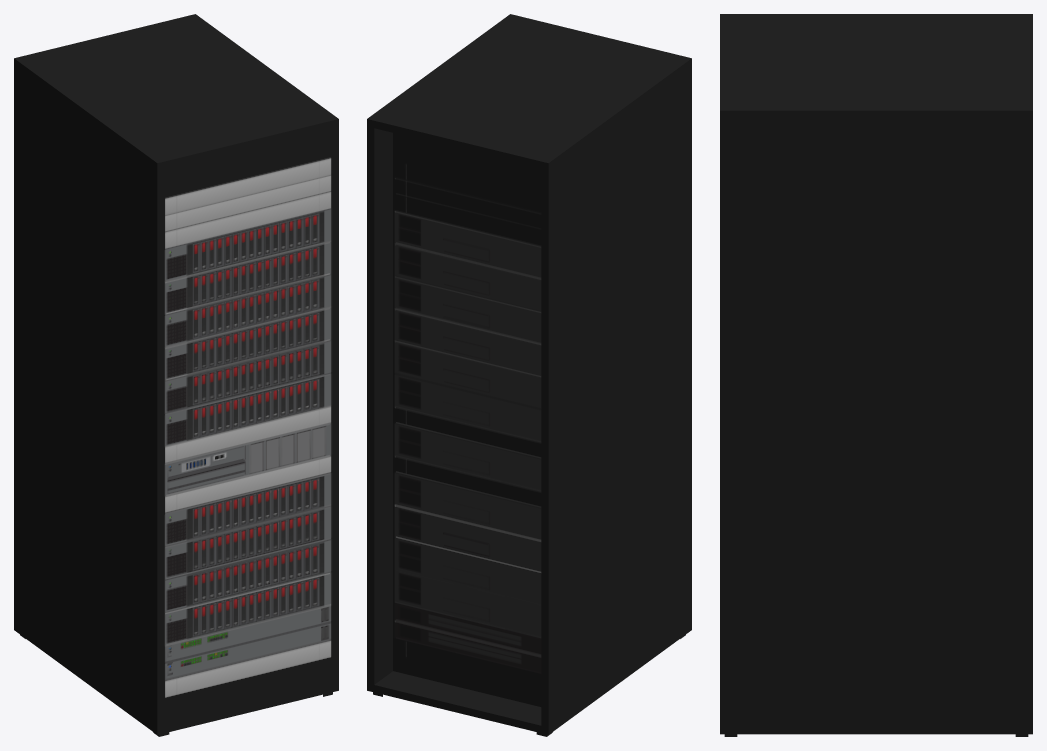
The model's file is server_object.gltf.
3 views of the same model, side by side, from view 1: azimuth 30°, elevation 25°; view 2: azimuth 150°, elevation 25°; view 3: azimuth 270°, elevation 25° (orthographic). The views are drawn at different scales.
Parts seen in each view (by area): view 1: Server; view 2: Server; view 3: Server.
Boxes of the visible parts, bbox=[...] form: Server: bbox=[14, 14, 338, 736]; Server: bbox=[367, 14, 691, 736]; Server: bbox=[720, 14, 1032, 736].
Size of the model in its own units: 0.864 by 2.62 by 1.18.
1 material, 1 textured.
